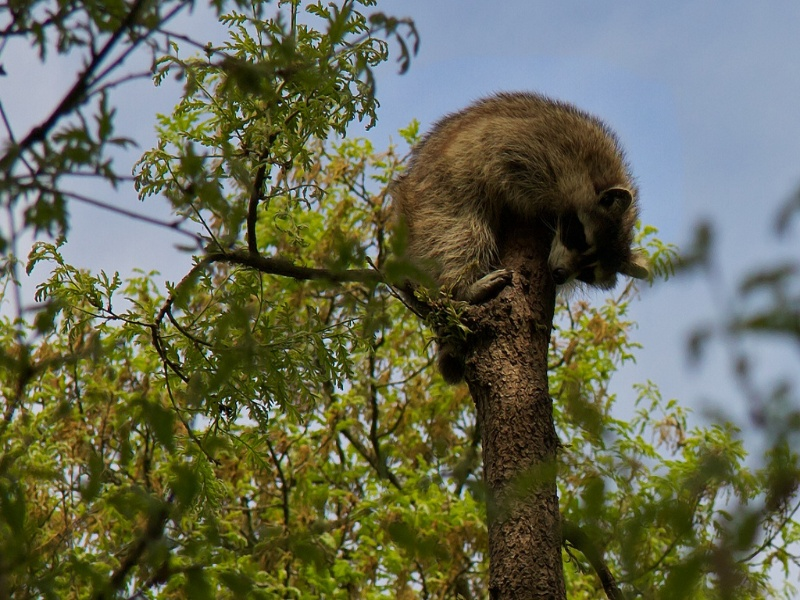raccoon: (378, 89, 652, 363)
